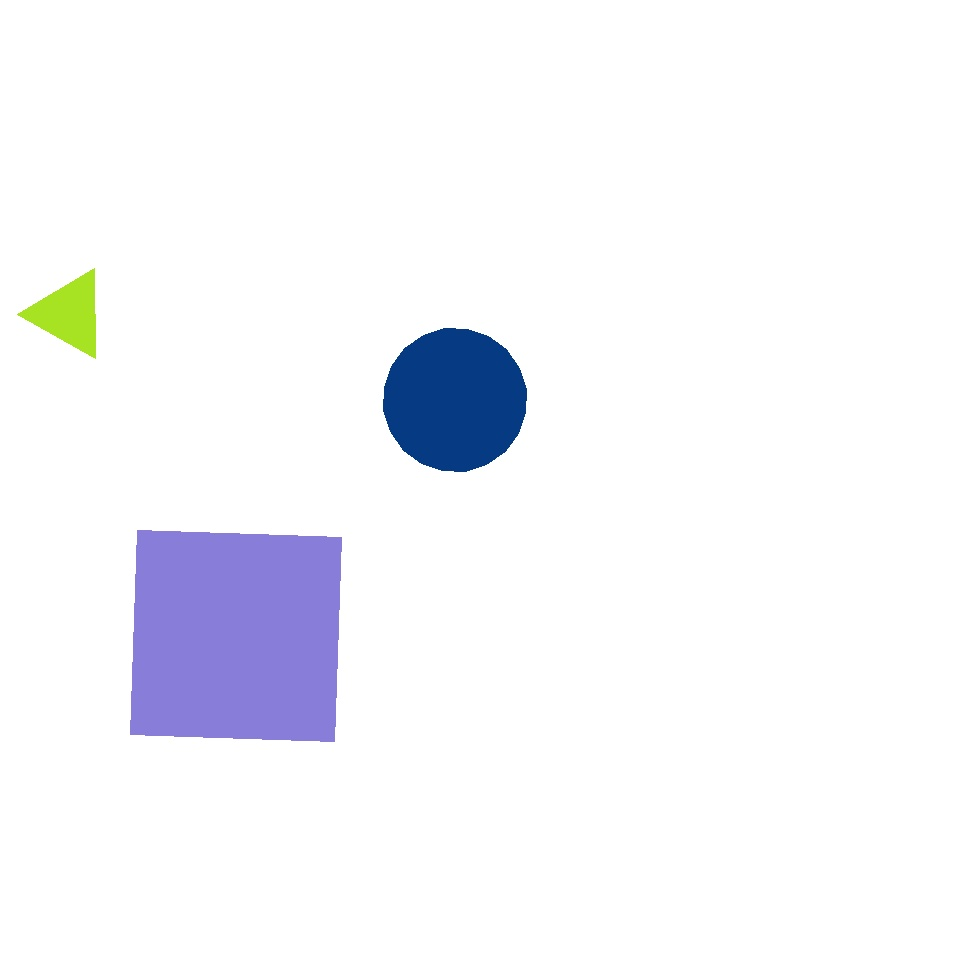circle: (295, 46, 549, 296), (252, 126, 456, 342), (169, 657, 335, 836), (764, 602, 890, 742), (30, 269, 108, 359)
square: (130, 530, 342, 742), (340, 160, 480, 300)
triangle: (384, 329, 526, 472)
